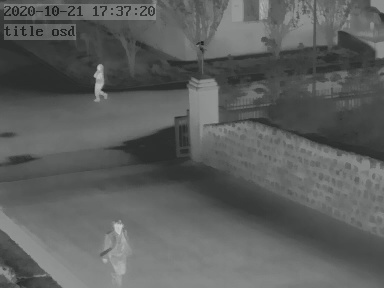person: (101, 216, 130, 285), (92, 64, 105, 101)
